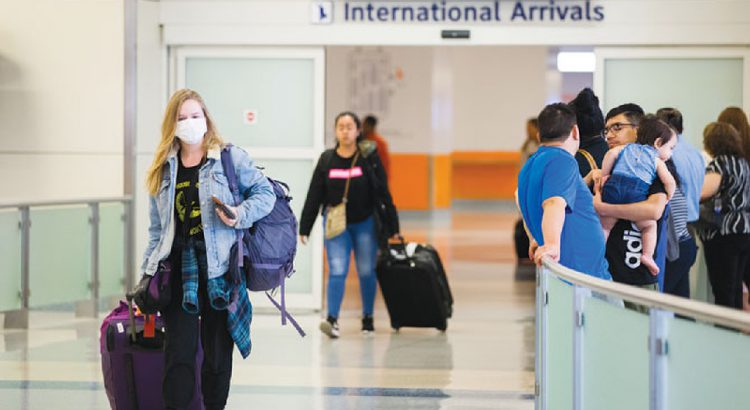with_mask: (173, 110, 209, 145)
without_mask: (598, 118, 635, 147), (333, 122, 360, 148), (664, 132, 676, 164)
